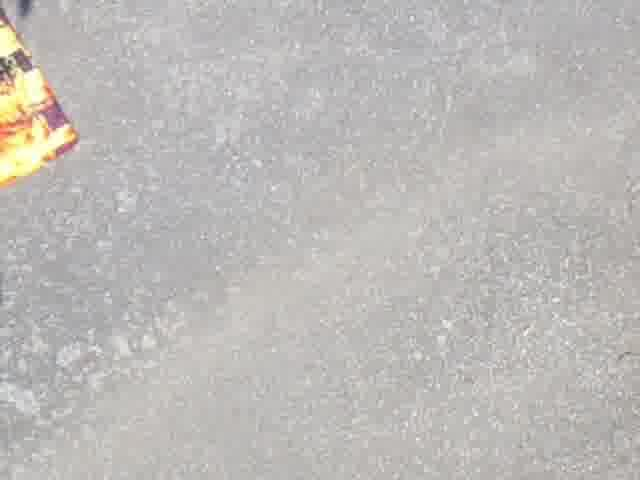fire-poster: (0, 6, 76, 192)
